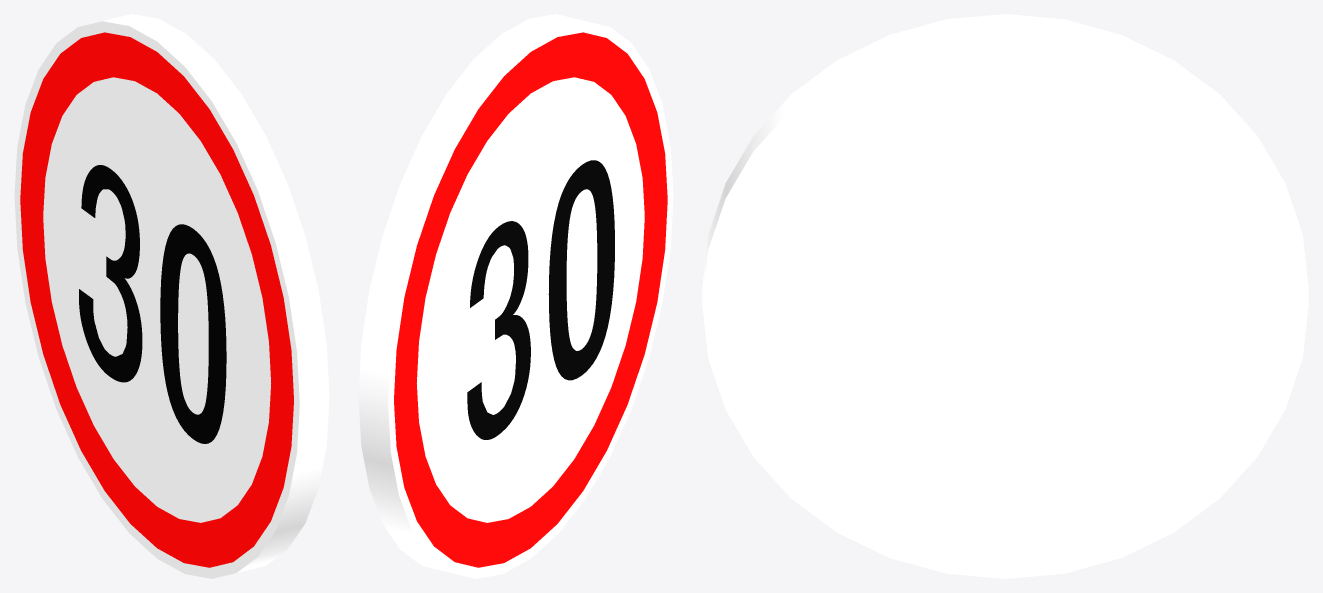
The model's file is Speed_Limit_30.glb.
3 renders of one model, left to right at view 1: azimuth 30°, elevation 25°; view 2: azimuth 150°, elevation 25°; view 3: azimuth 270°, elevation 25°, orthographic. The views are drawn at different scales.
Visible parts, largest first — view 1: Speed_Limit_30; view 2: Speed_Limit_30; view 3: Speed_Limit_30.
Boxes of the visible parts, x1,y1,x2,y2 form: Speed_Limit_30: (14,14,329,578); Speed_Limit_30: (358,14,673,578); Speed_Limit_30: (702,14,1308,578).
Size of the model in its own units: 0.075 by 1 by 1.
